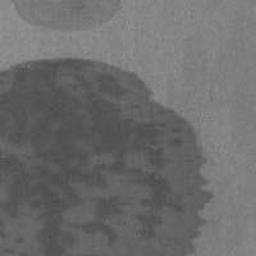Oil spot: (0, 56, 215, 256), (10, 0, 124, 33)
